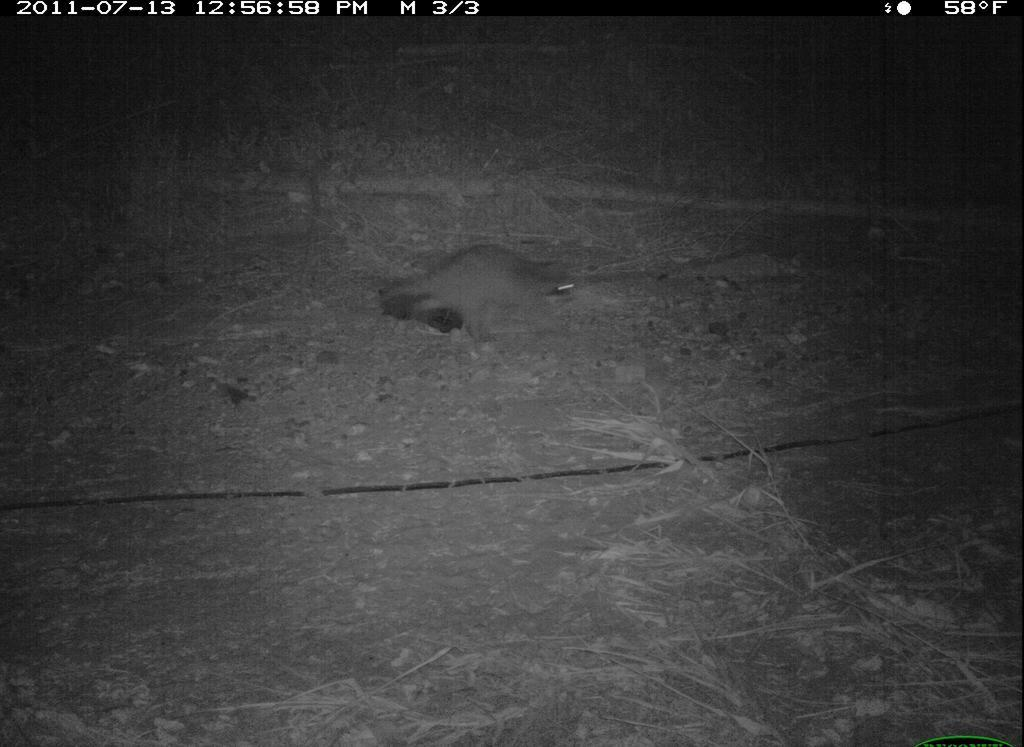raccoon: (376, 241, 596, 350)
